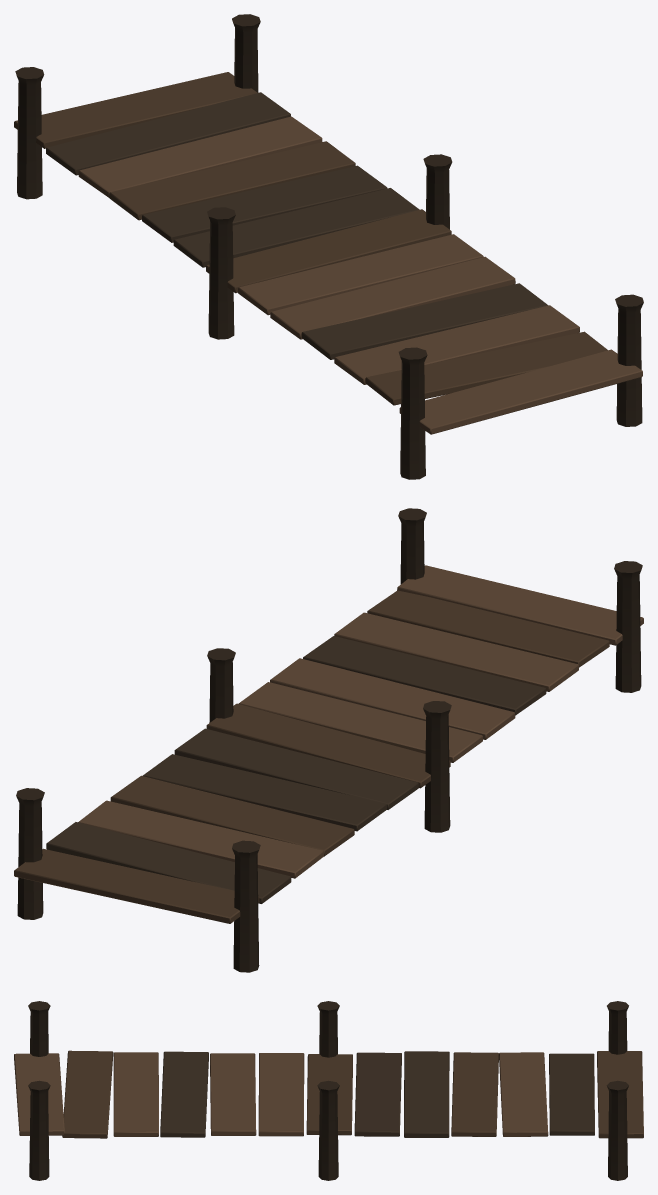
Rendered from jetty.glb.
3 renders of one model, top to bottom at view 1: azimuth 30°, elevation 25°; view 2: azimuth 150°, elevation 25°; view 3: azimuth 270°, elevation 25°, orthographic. The views are drawn at different scales.
Parts seen in each view (by area): view 1: jetty; view 2: jetty; view 3: jetty.
Part boxes in pixels (left/top/right/bottom): jetty: left=14, top=14, right=643, bottom=479; jetty: left=14, top=508, right=643, bottom=972; jetty: left=14, top=1001, right=643, bottom=1180.
Bounding box in the file's own units: 3.36 × 1.6 × 10.02.
